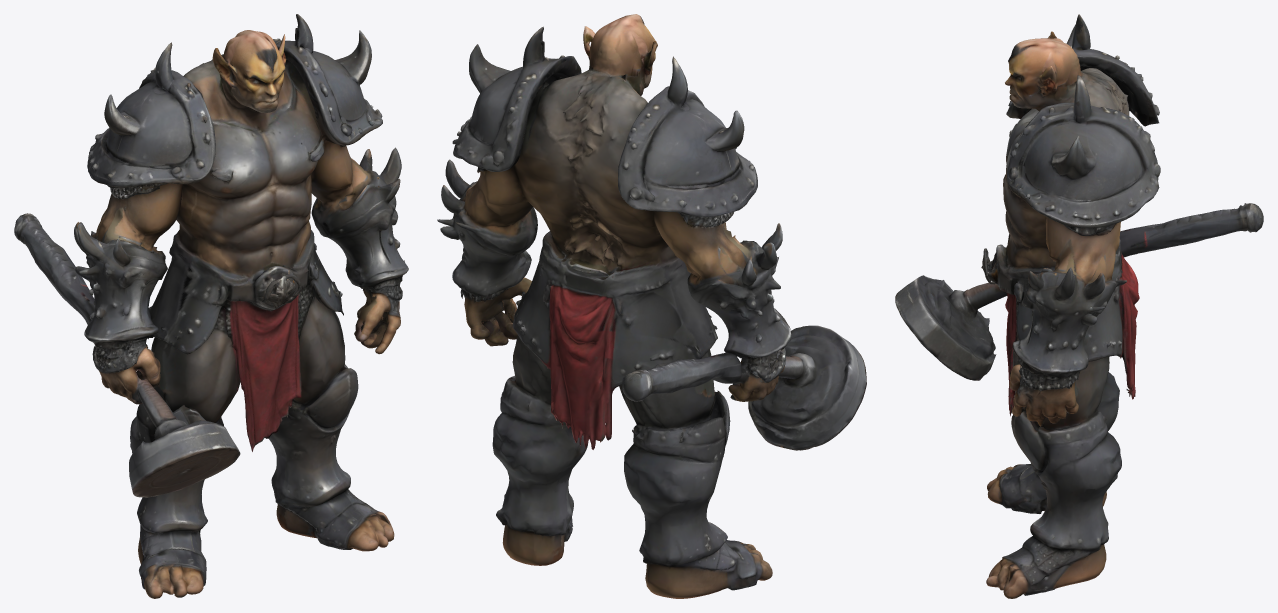
The model's file is Meshy_AI_Warrior_Titan_1115233409_texture.glb.
The picture shows the model from 3 angles, left to right: view 1: azimuth 30°, elevation 25°; view 2: azimuth 150°, elevation 25°; view 3: azimuth 270°, elevation 25°; orthographic projection. The views are drawn at different scales.
Size of the model in its own units: 1.32 by 2 by 1.32.
1 material, 1 textured.
